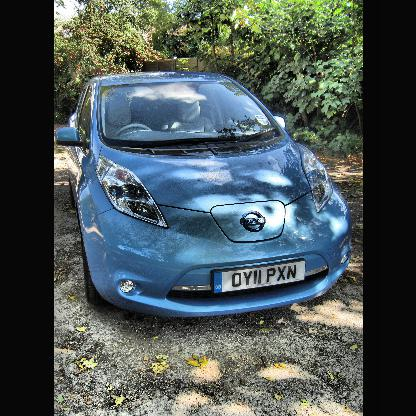Nissan Leaf Hatchback 2012: (54, 72, 352, 323)
